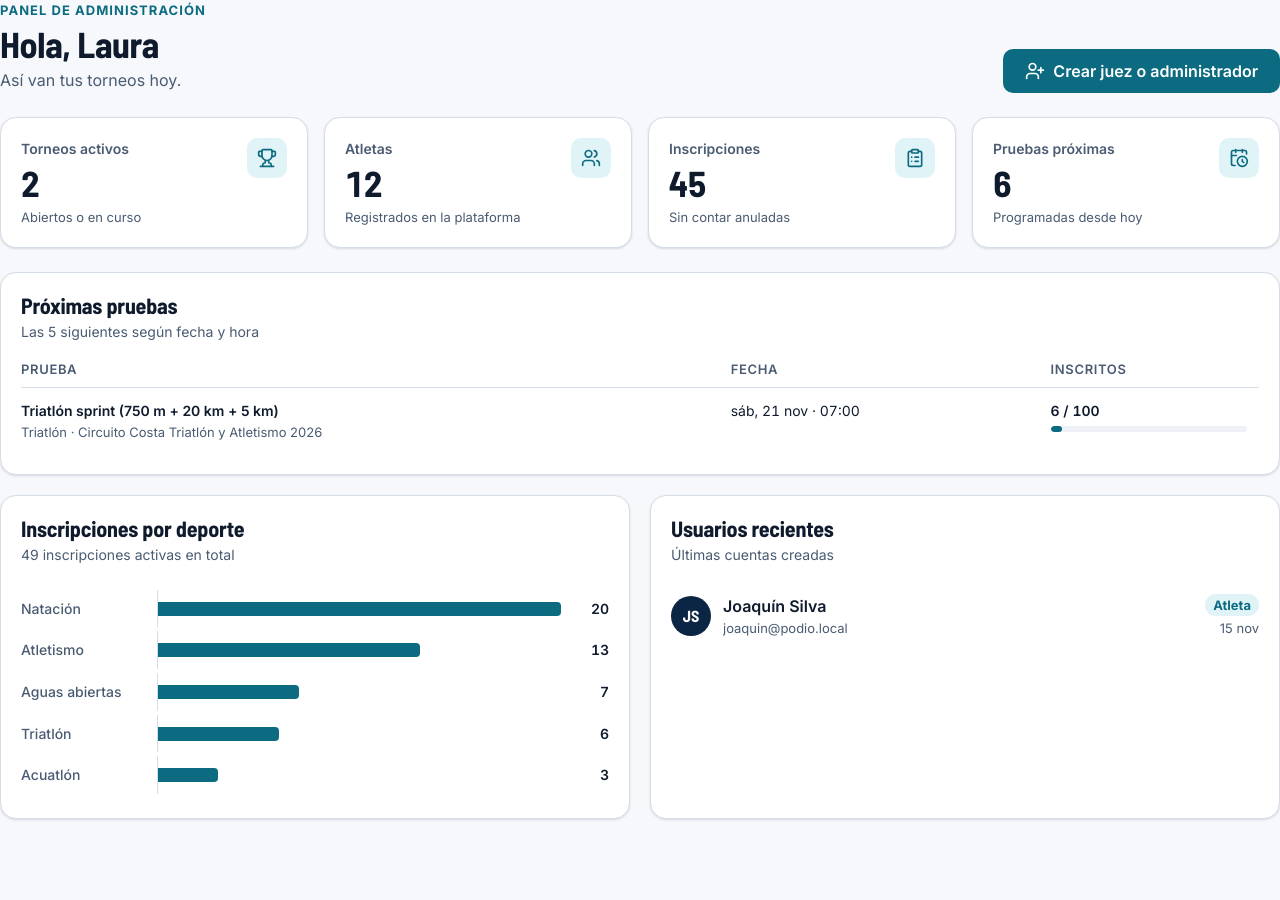
it: DashboardPage › al crear un juez correctamente cierra el diálogo, avisa y recarga el resumen
Click the button "Crear juez o administrador" at (1142, 70), box [1003,48,1279,92]
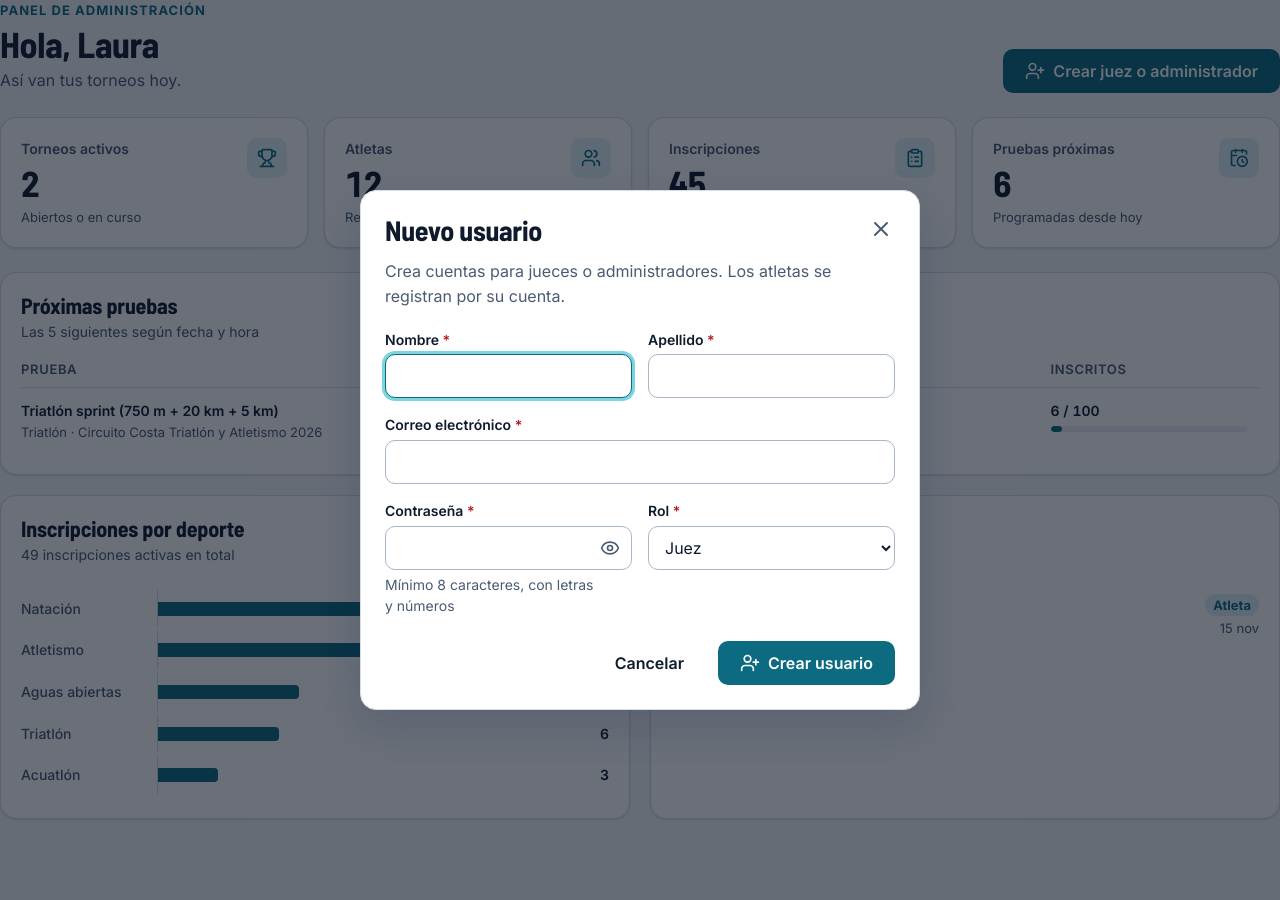
Type "Pedro" into the field labelled "Nombre *" at (508, 376), box [385,354,632,398]
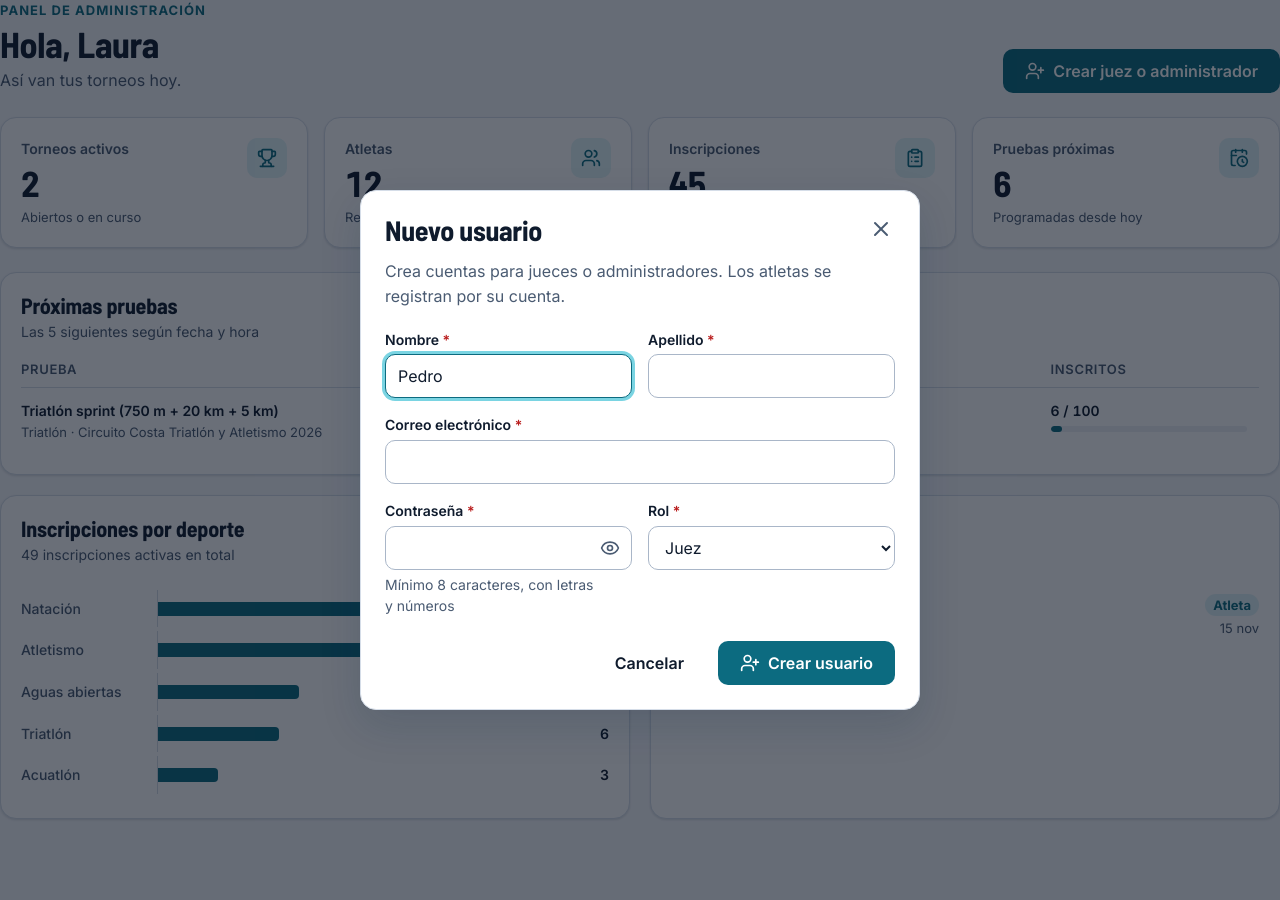
Type "Salas" into the field labelled "Apellido *" at (772, 376), box [648,354,895,398]
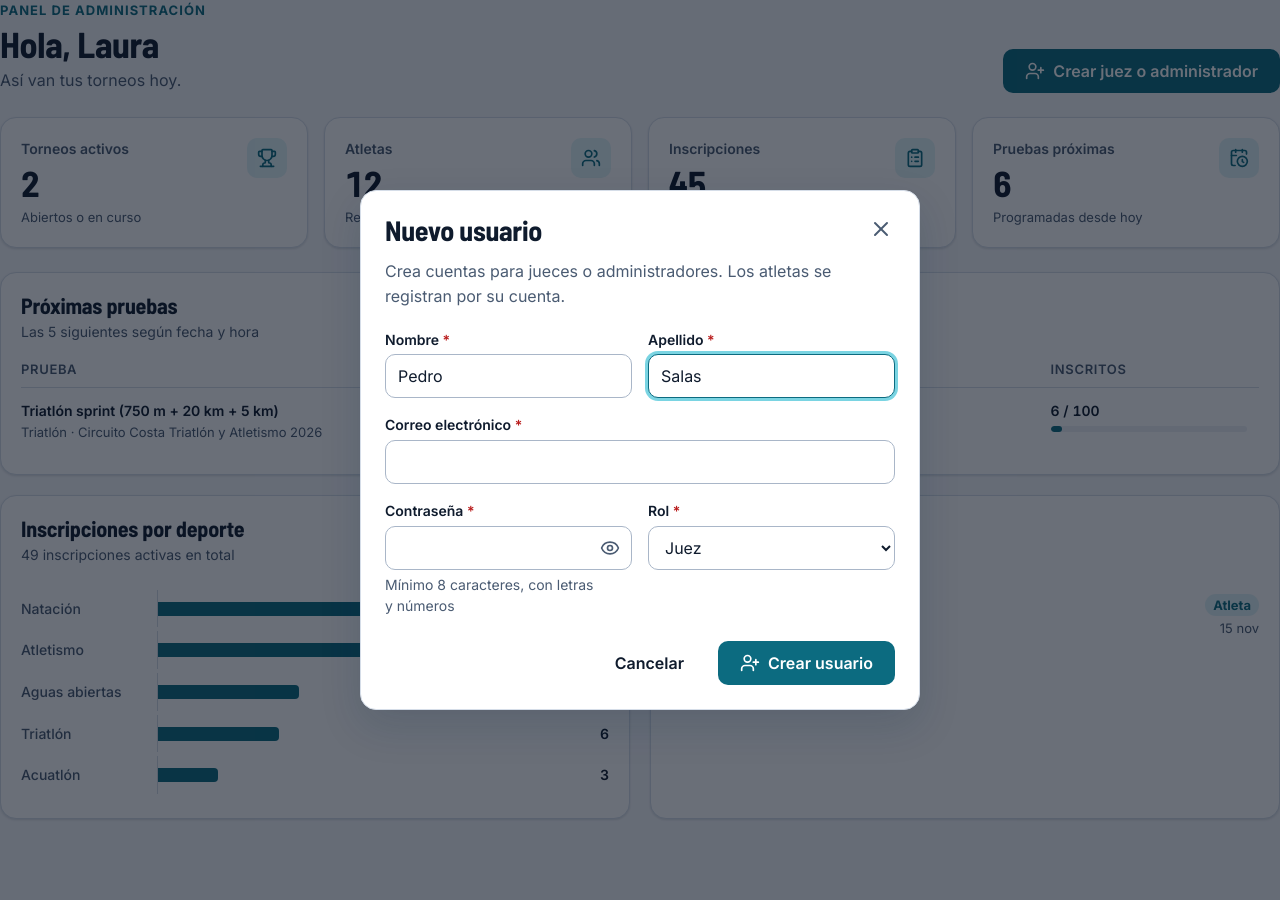
Type "pedro@podio.local" into the field labelled "Correo electrónico *" at (640, 462), box [385,440,895,484]
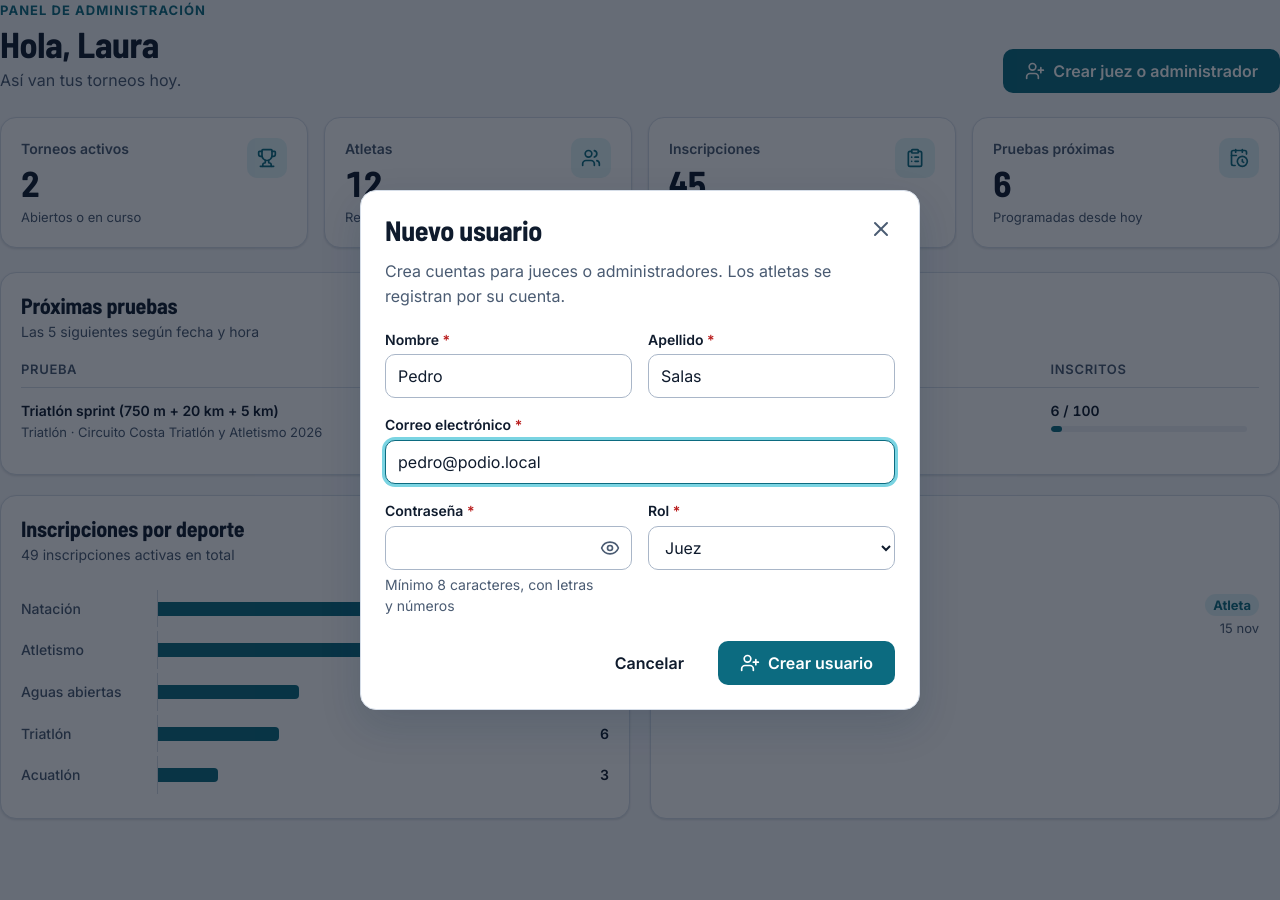
Type "JuezNuevo1" into the password field labelled "Contraseña *" at (508, 548), box [385,526,632,570]
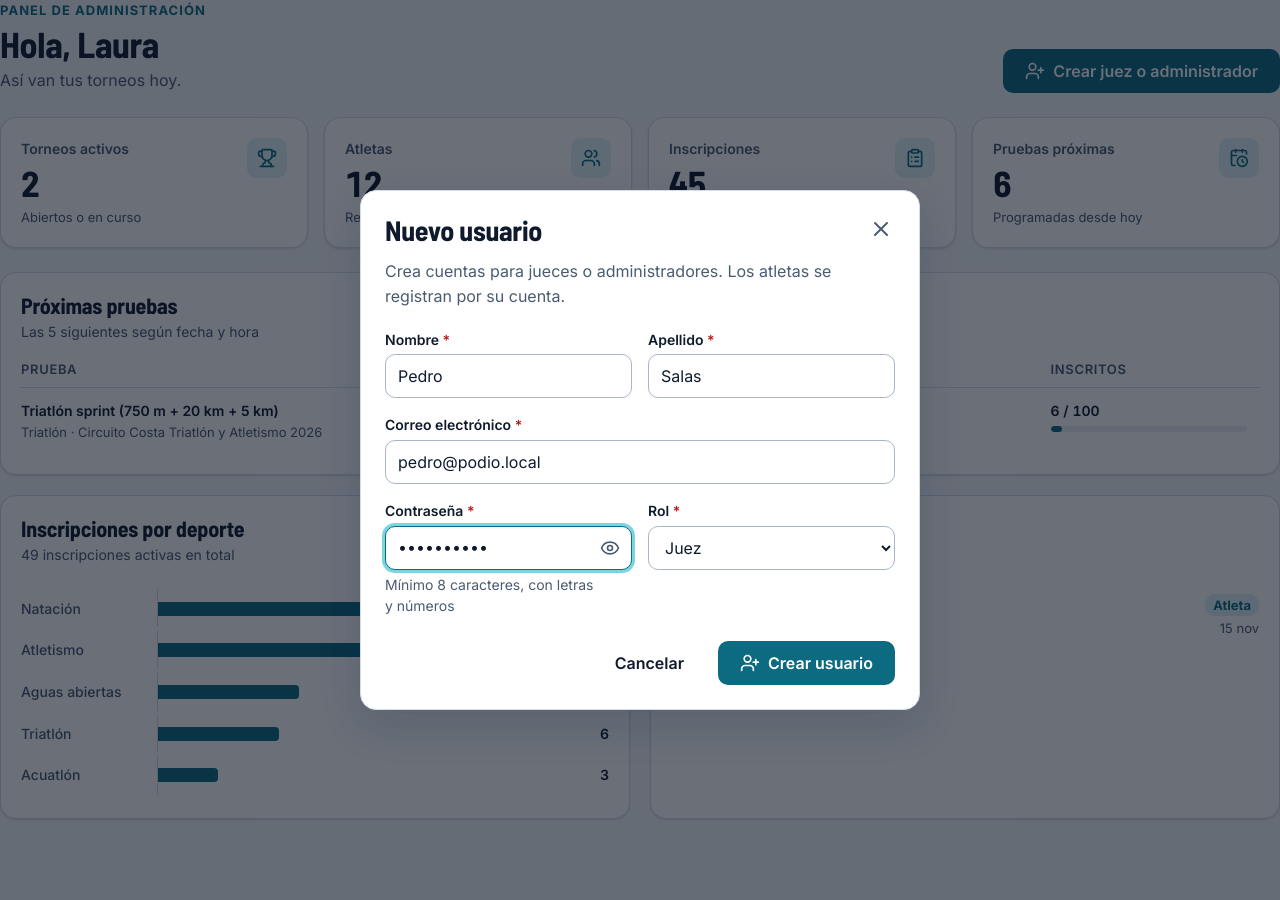
Click the button "Crear usuario" at (807, 663), box [718,641,895,685]
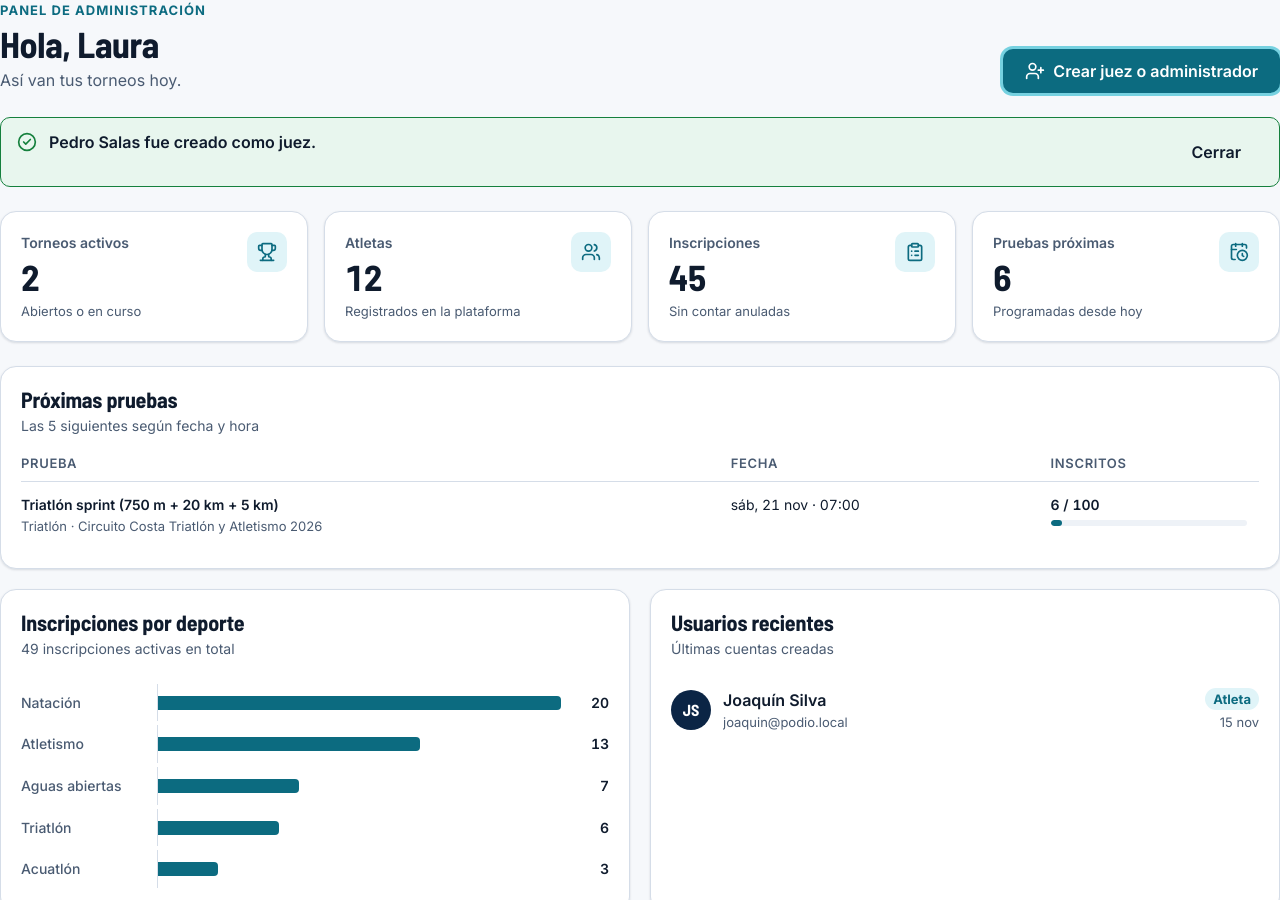
Expected: the text "Pedro Salas fue creado como juez." is shown, [49,132,316,152]
Expected: the dialog is gone
